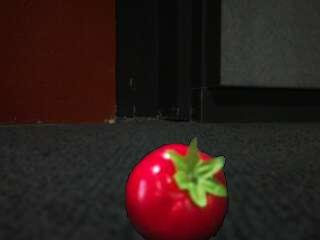Tomato: (126, 136, 231, 240)
